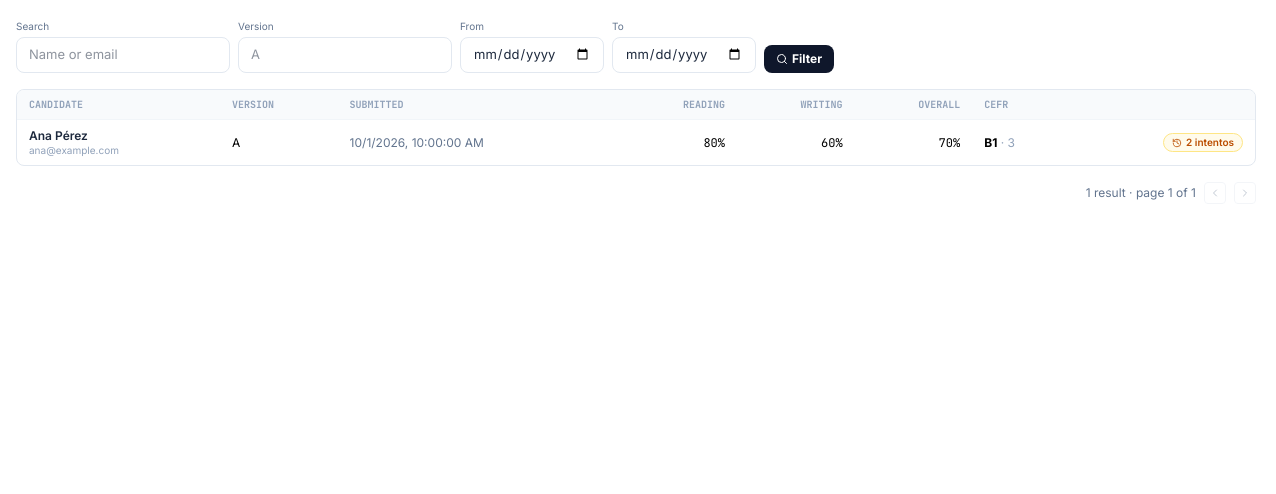
it: ResultsTab › omits the task CEFR when the version issued none
This screenshot has width=1276, height=494.
Click the text "ana@example.com".
click(74, 150)  # box top-left (29, 144), bottom-right (119, 156)
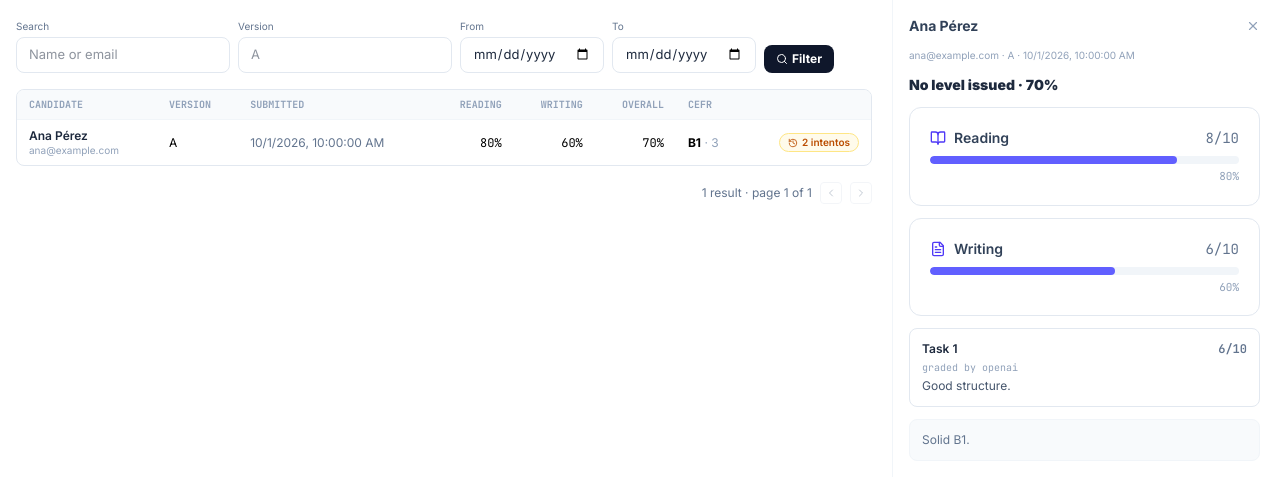
Check: the element named "Attempt detail" does not show "null", box top-left (892, 0), bottom-right (1275, 477)
Check: the element named "Attempt detail" shows "6/10", box top-left (892, 0), bottom-right (1275, 477)
